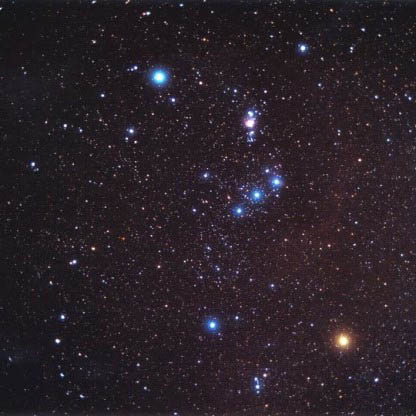Orion: (323, 317, 361, 356), (147, 61, 173, 102), (199, 311, 225, 338), (291, 35, 315, 61), (244, 183, 267, 205), (267, 168, 286, 194), (225, 201, 246, 224)
